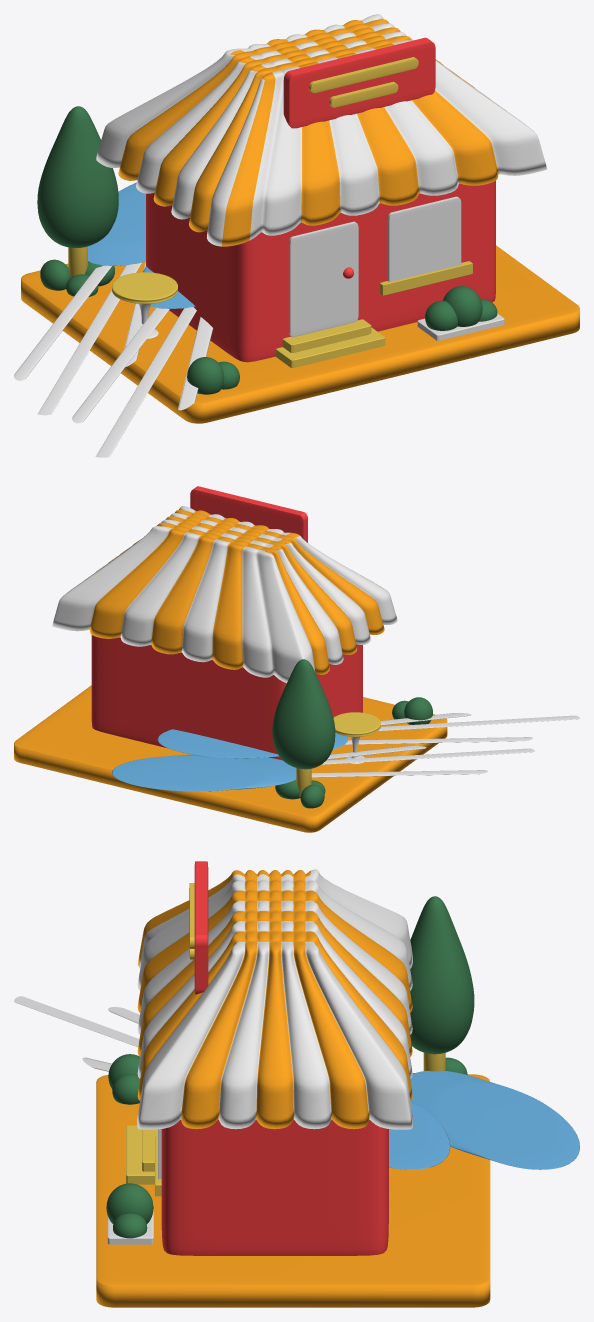
The model's file is restaurant-3d-animated-icon-89596986324.glb.
3 renders of one model, top to bottom at view 1: azimuth 30°, elevation 25°; view 2: azimuth 150°, elevation 25°; view 3: azimuth 270°, elevation 25°, orthographic. The views are drawn at different scales.
Parts seen in each view (by area): view 1: Cube.004, Cube.010, Cube, Cube.008, Cylinder.008, Cube.009, Cube.005, Cylinder.004, Cube.002, Cube.006, Sphere.004, Cylinder.001 (+6 smaller); view 2: Cube.004, Cube, Cube.010, Cylinder.008, Cube.008, Cylinder.004, Cube.005, Cylinder.001, Sphere, Sphere.006; view 3: Cube.004, Cube.010, Cube, Cylinder.008, Cube.008, Cylinder.004, Sphere.004, Cube.005, Cube.006, Sphere.006, Cube.001.
Part boxes in pixels (left/top/right/bottom): Cube.004: left=96, top=14, right=546, bottom=246; Cube.010: left=21, top=245, right=579, bottom=423; Cube: left=146, top=180, right=495, bottom=362; Cube.008: left=37, top=106, right=118, bottom=247; Cylinder.008: left=14, top=182, right=145, bottom=415; Cube.009: left=289, top=221, right=358, bottom=337; Cube.005: left=283, top=37, right=435, bottom=128; Cylinder.004: left=72, top=266, right=213, bottom=457; Cube.002: left=387, top=196, right=461, bottom=281; Cube.006: left=275, top=319, right=385, bottom=367; Sphere.004: left=425, top=286, right=497, bottom=330; Cylinder.001: left=112, top=272, right=177, bottom=338; Cube.004: left=52, top=506, right=397, bottom=683; Cube: left=91, top=635, right=362, bottom=760; Cube.010: left=14, top=685, right=447, bottom=832; Cylinder.008: left=112, top=746, right=534, bottom=791; Cube.008: left=272, top=659, right=335, bottom=769; Cylinder.004: left=157, top=713, right=579, bottom=758; Cube.005: left=190, top=486, right=307, bottom=542; Cylinder.001: left=333, top=712, right=380, bottom=763; Sphere: left=275, top=779, right=325, bottom=808; Sphere.006: left=392, top=697, right=432, bottom=724; Cube.004: left=137, top=869, right=412, bottom=1129; Cube.010: left=96, top=1074, right=490, bottom=1307; Cube: left=161, top=1120, right=388, bottom=1255; Cylinder.008: left=410, top=1070, right=579, bottom=1169; Cube.008: left=410, top=896, right=474, bottom=1054; Cylinder.004: left=14, top=996, right=450, bottom=1169; Sphere.004: left=106, top=1183, right=153, bottom=1238; Cube.005: left=194, top=861, right=208, bottom=994; Cube.006: left=126, top=1125, right=157, bottom=1184; Sphere.006: left=108, top=1054, right=139, bottom=1104; Cube.001: left=107, top=1202, right=153, bottom=1244.
Size of the model in its own units: 8.31 by 4.3 by 7.03.
